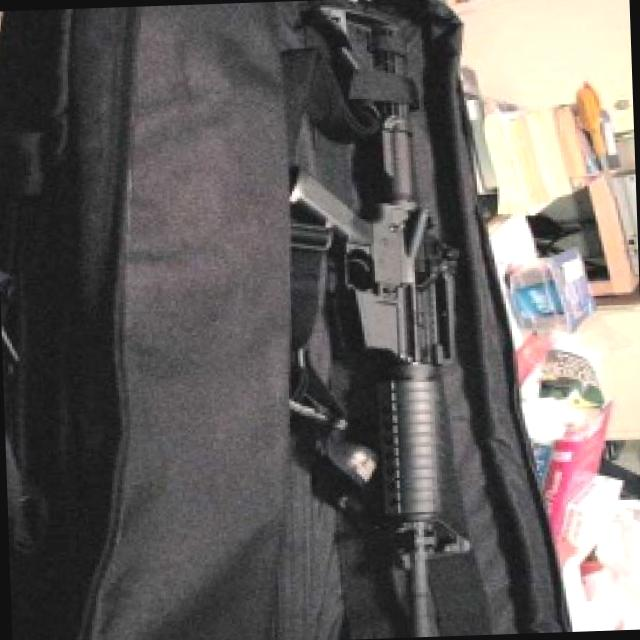long weapon: (283, 29, 493, 612)
